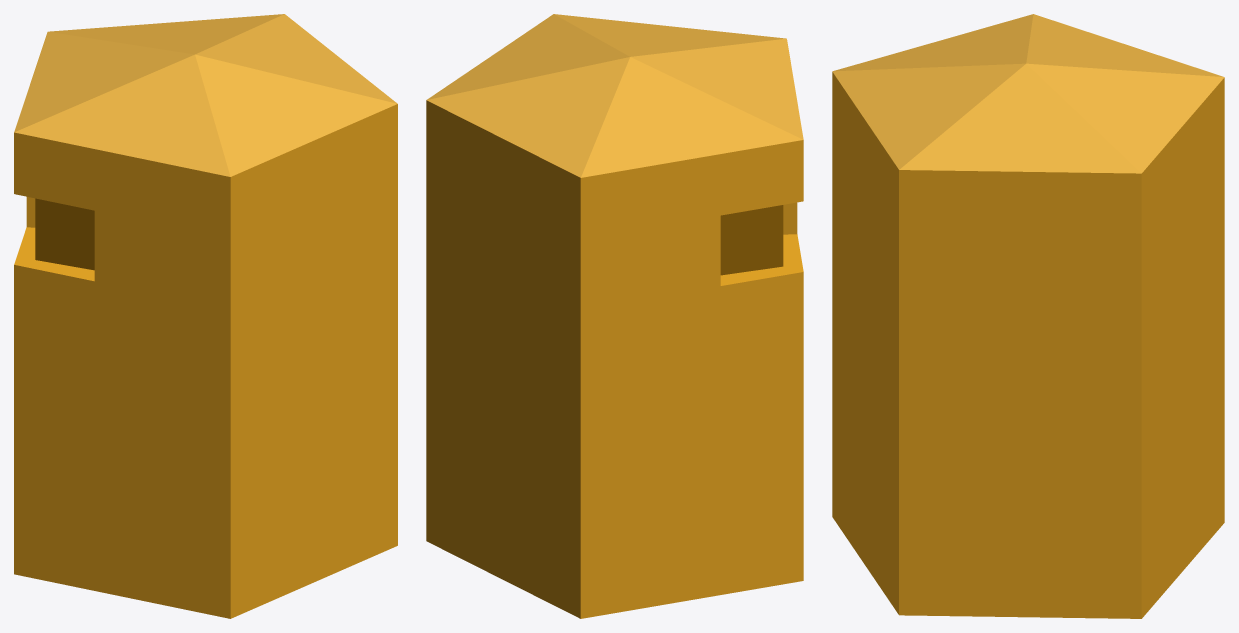
The model's file is perfumeNozzle.fbx.
3 views of the same model, side by side, from view 1: azimuth 30°, elevation 25°; view 2: azimuth 150°, elevation 25°; view 3: azimuth 270°, elevation 25° (orthographic).
Parts seen in each view (by area): view 1: PerfumeNozzle; view 2: PerfumeNozzle; view 3: PerfumeNozzle.
Part boxes in pixels (left/top/right/bottom): PerfumeNozzle: left=14, top=14, right=397, bottom=618; PerfumeNozzle: left=426, top=14, right=803, bottom=618; PerfumeNozzle: left=832, top=14, right=1224, bottom=618.
Size of the model in its own units: 114 by 161 by 119.
